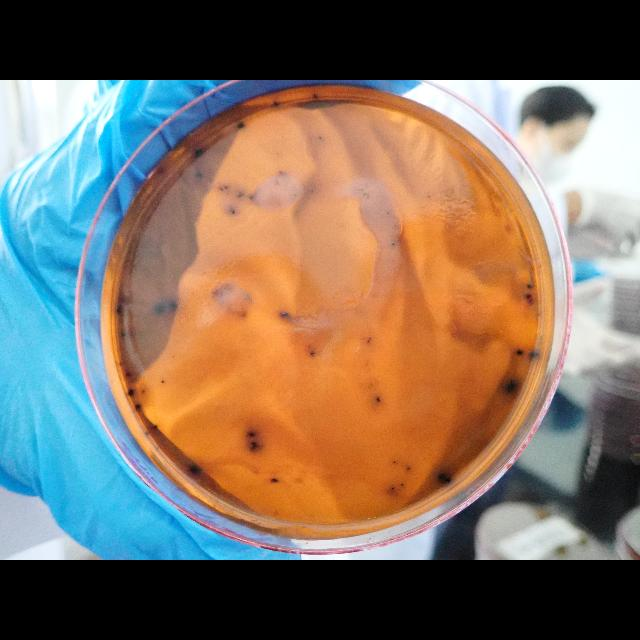colony: (499, 374, 523, 398), (187, 460, 206, 478), (152, 301, 164, 317), (245, 428, 259, 440), (248, 441, 262, 453), (166, 298, 178, 312), (278, 308, 290, 322), (513, 346, 525, 358), (192, 148, 204, 160), (234, 120, 246, 132), (528, 348, 540, 359), (127, 387, 137, 398), (525, 280, 535, 290), (524, 290, 534, 300), (114, 306, 124, 316), (270, 99, 280, 109), (268, 477, 280, 485), (134, 402, 144, 411), (443, 476, 453, 484), (152, 422, 160, 432), (196, 170, 204, 180), (373, 396, 382, 404), (310, 349, 318, 358), (438, 471, 444, 482), (528, 298, 536, 306), (142, 430, 150, 438), (124, 369, 132, 377), (405, 463, 411, 472), (141, 387, 147, 395), (160, 378, 166, 386), (366, 337, 372, 345), (231, 208, 237, 216), (249, 193, 255, 201), (120, 331, 128, 337), (392, 459, 398, 466), (158, 168, 165, 174), (400, 479, 404, 488), (390, 242, 396, 248), (236, 192, 242, 198), (312, 93, 318, 99), (170, 354, 176, 360), (389, 486, 397, 490), (319, 134, 323, 142), (224, 185, 228, 191), (386, 211, 390, 217), (220, 187, 222, 193)
